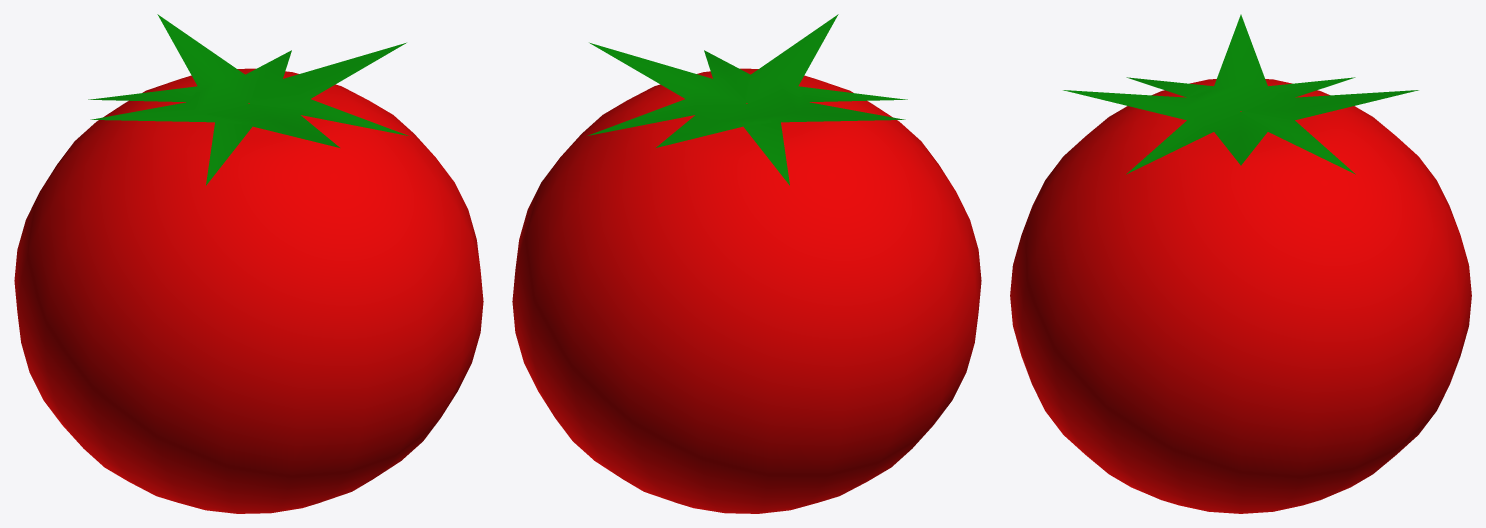
The model's file is tomato.fbx.
The picture shows the model from 3 angles, left to right: view 1: azimuth 30°, elevation 25°; view 2: azimuth 150°, elevation 25°; view 3: azimuth 270°, elevation 25°; orthographic projection. The views are drawn at different scales.
Parts seen in each view (by area): view 1: pSphere26, pPlane2; view 2: pSphere26, pPlane2; view 3: pSphere26, pPlane2.
Part boxes in pixels (x1,y1,x2,y2): pSphere26: (14,68,483,513); pPlane2: (88,14,408,185); pSphere26: (512,68,981,513); pPlane2: (587,14,907,185); pSphere26: (1010,79,1471,513); pPlane2: (1063,14,1418,174).
Bounding box in the file's own units: 100 × 94.12 × 100.
